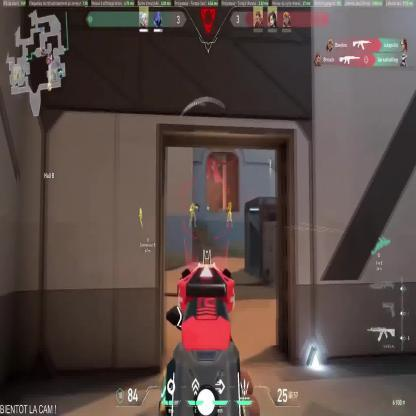enemy: (189, 202, 198, 229), (226, 202, 233, 228), (139, 206, 142, 227)
enemy_head: (139, 206, 142, 212), (228, 202, 231, 207), (192, 202, 194, 206)
